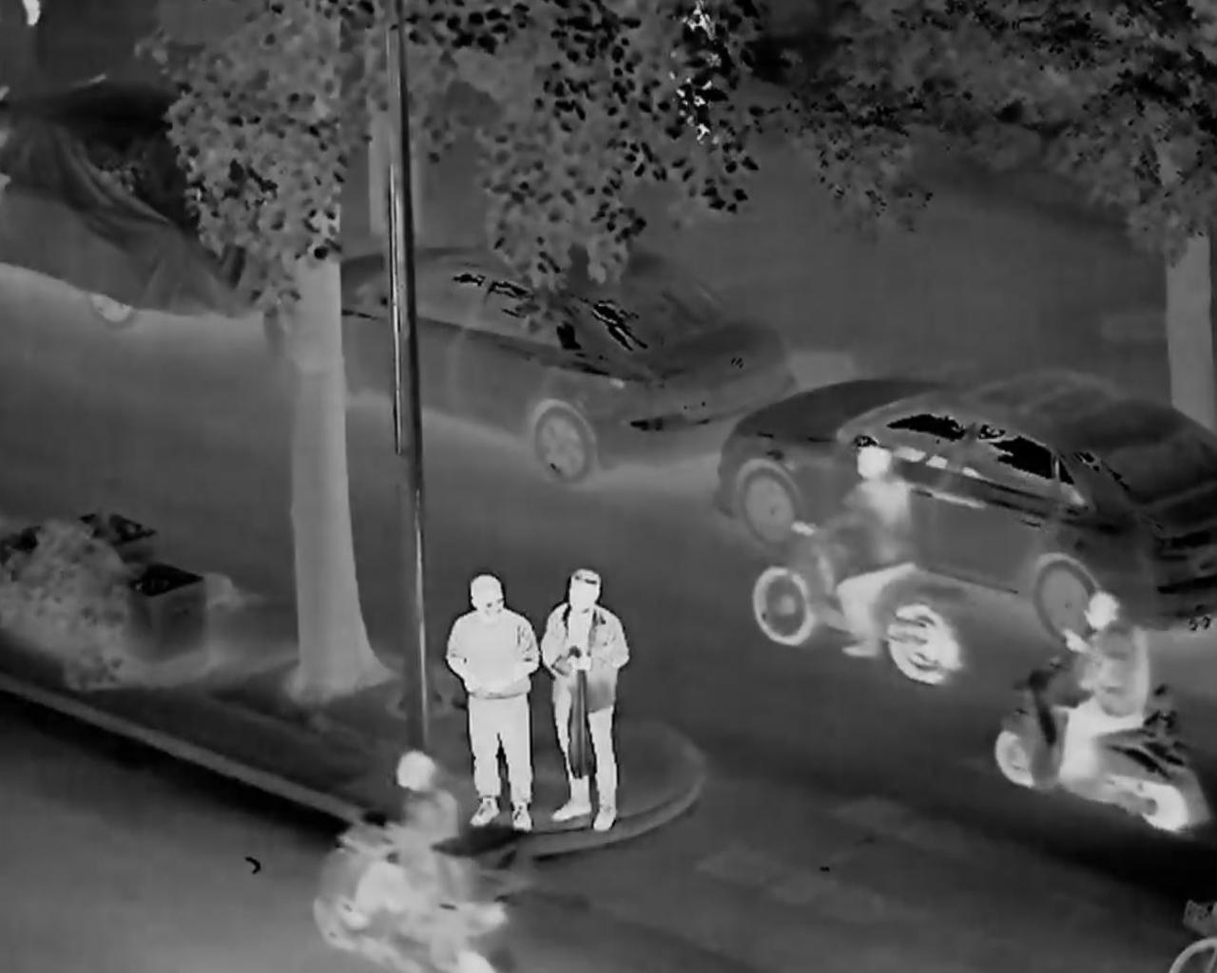person: (334, 751, 493, 961), (427, 561, 547, 831), (782, 441, 917, 677), (538, 564, 644, 840), (1050, 585, 1161, 784)
